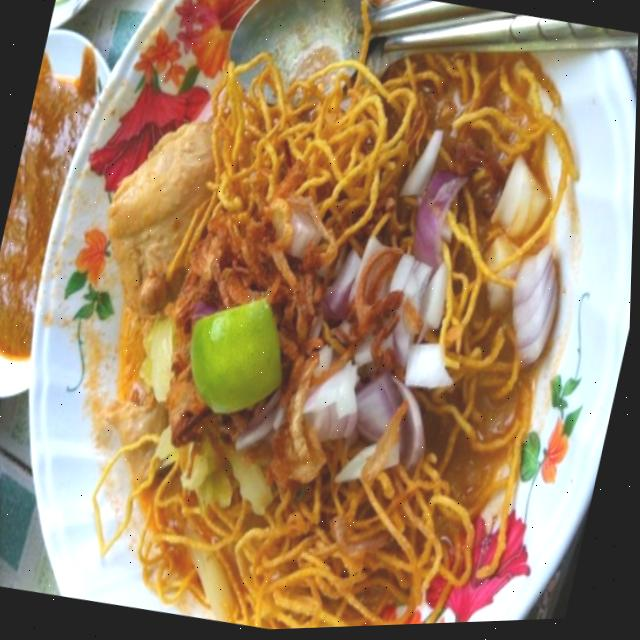面条主食: (30, 0, 640, 639)
